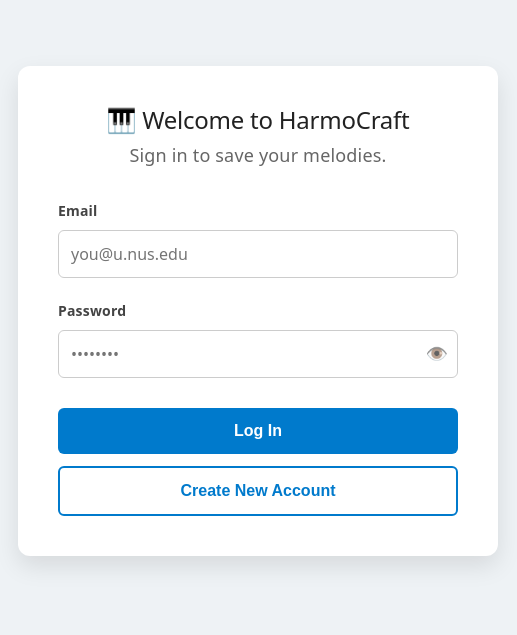
Test case: HarmoCraft Extended Test Suite › Login.jsx (Successful Login & Sign Up Toggle) › should toggle to sign-up mode when create account is clicked
Click the button "Create New Account".
click(258, 491)  # box top-left (58, 466), bottom-right (458, 516)
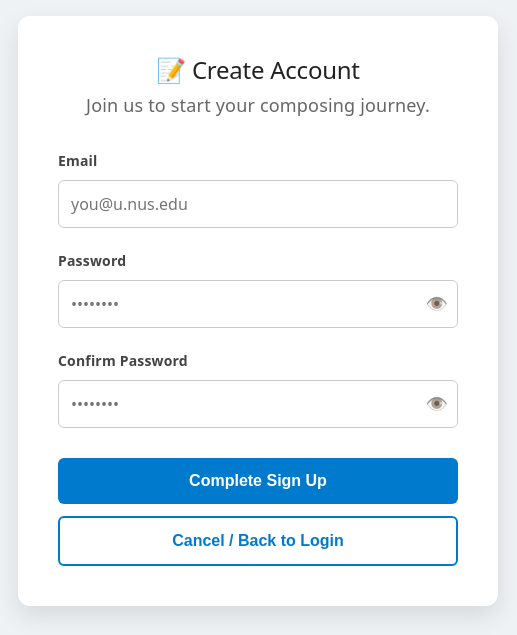
Now the text "Confirm Password" is shown, box top-left (58, 351), bottom-right (188, 370)
